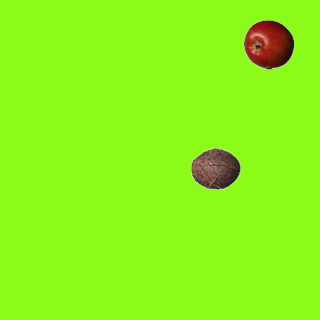Apple Braeburn: (243, 19, 293, 69)
Cocos: (190, 143, 240, 193)
